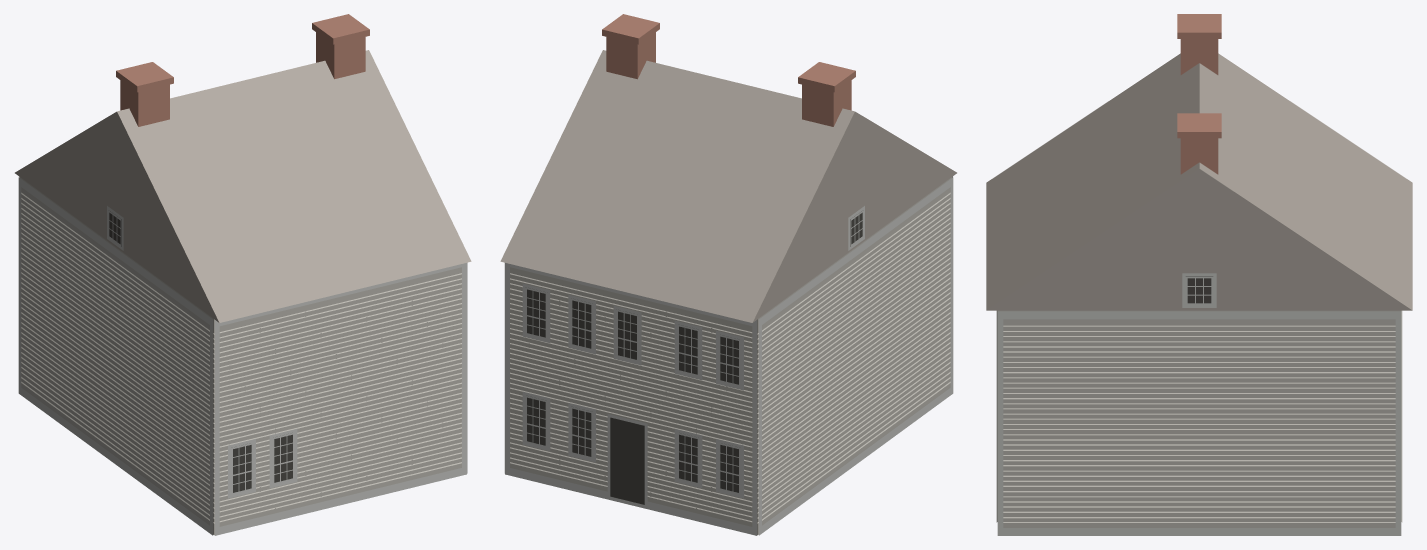
The model's file is recon_1835_blk_school_section_tier_95_d7_07__inferred_1835.glb.
The picture shows the model from 3 angles, left to right: view 1: azimuth 30°, elevation 25°; view 2: azimuth 150°, elevation 25°; view 3: azimuth 270°, elevation 25°; orthographic projection. The views are drawn at different scales.
Parts seen in each view (by area): view 1: recon_1835_blk_school_section_tier_95_d7_07__inferred_1835; view 2: recon_1835_blk_school_section_tier_95_d7_07__inferred_1835; view 3: recon_1835_blk_school_section_tier_95_d7_07__inferred_1835.
Part boxes in pixels (x1,y1,x2,y2): recon_1835_blk_school_section_tier_95_d7_07__inferred_1835: (15,14,471,535); recon_1835_blk_school_section_tier_95_d7_07__inferred_1835: (500,14,956,535); recon_1835_blk_school_section_tier_95_d7_07__inferred_1835: (986,14,1412,535).
Bounding box in the file's own units: 6.84 × 9.79 × 9.5.
